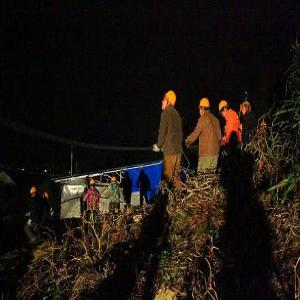yellow: (161, 87, 177, 114), (200, 96, 211, 119), (220, 99, 230, 118)
